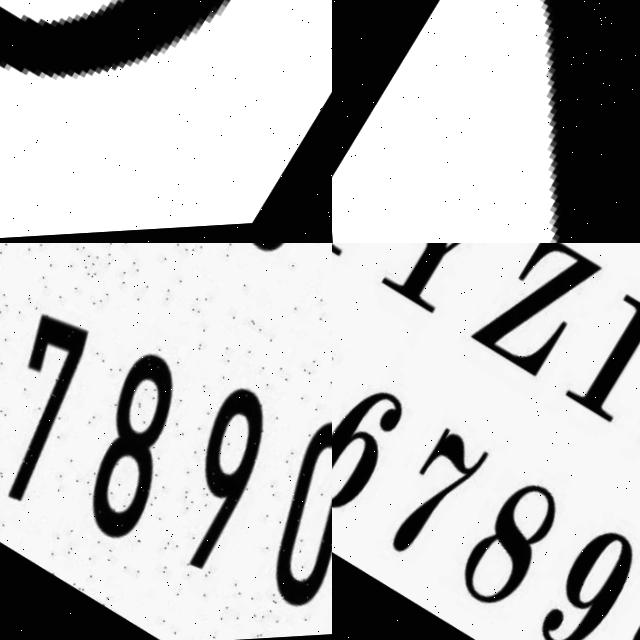0: (179, 375, 332, 640), (577, 547, 640, 640)
1: (541, 267, 640, 443)
6: (0, 243, 93, 509), (332, 366, 421, 538)
7: (0, 259, 166, 534), (345, 399, 508, 585)
8: (1, 299, 255, 577), (433, 456, 587, 628)
9: (91, 339, 332, 616), (504, 495, 640, 640)
X: (332, 0, 640, 243)
